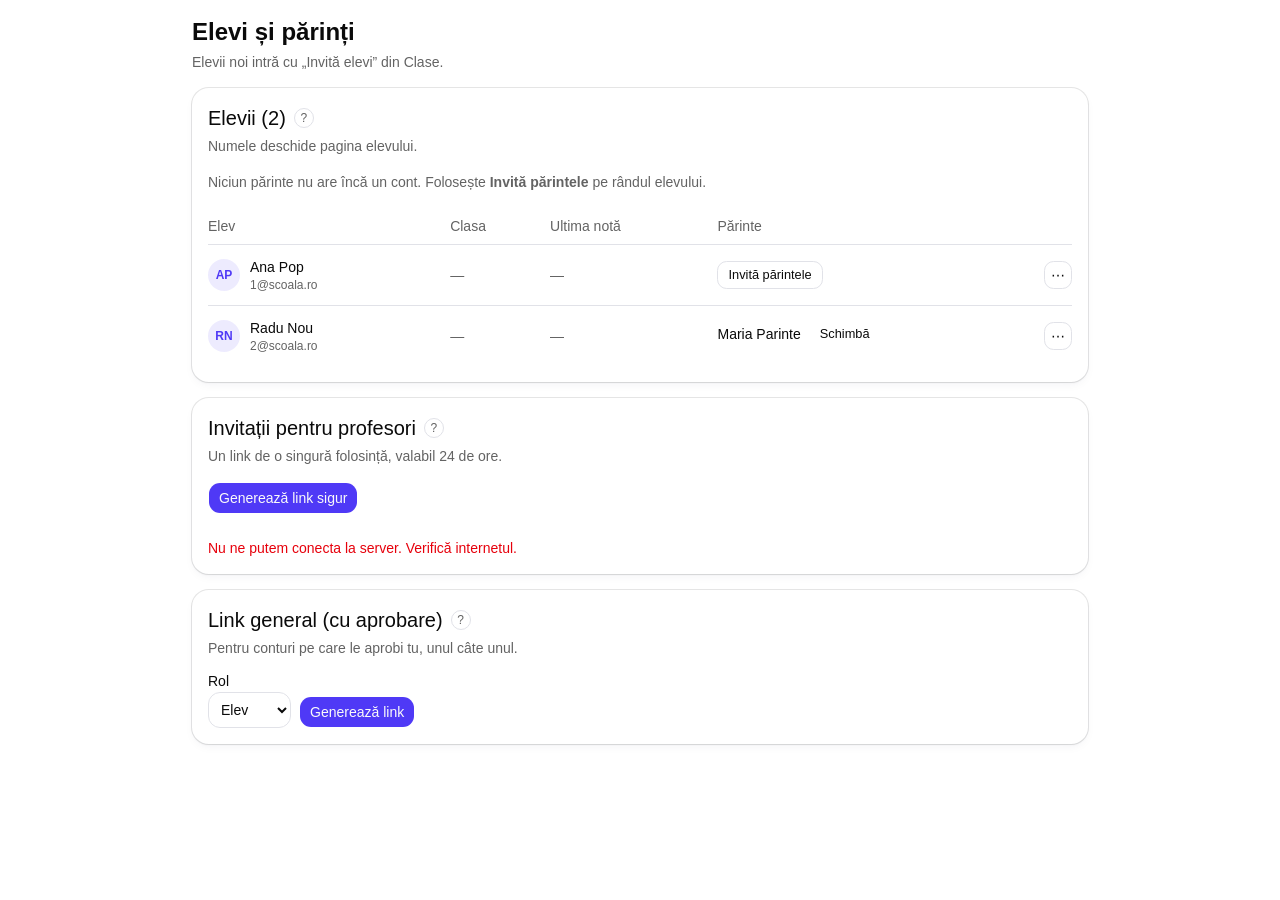
Test: AdminStudentsPage › lets an admin remove a student after a clear yes, and drops the row
Step 1. Click the button named "Mai multe acțiuni pentru Ana Pop" → {"x": 1058, "y": 275}, box [1044,261,1072,289]
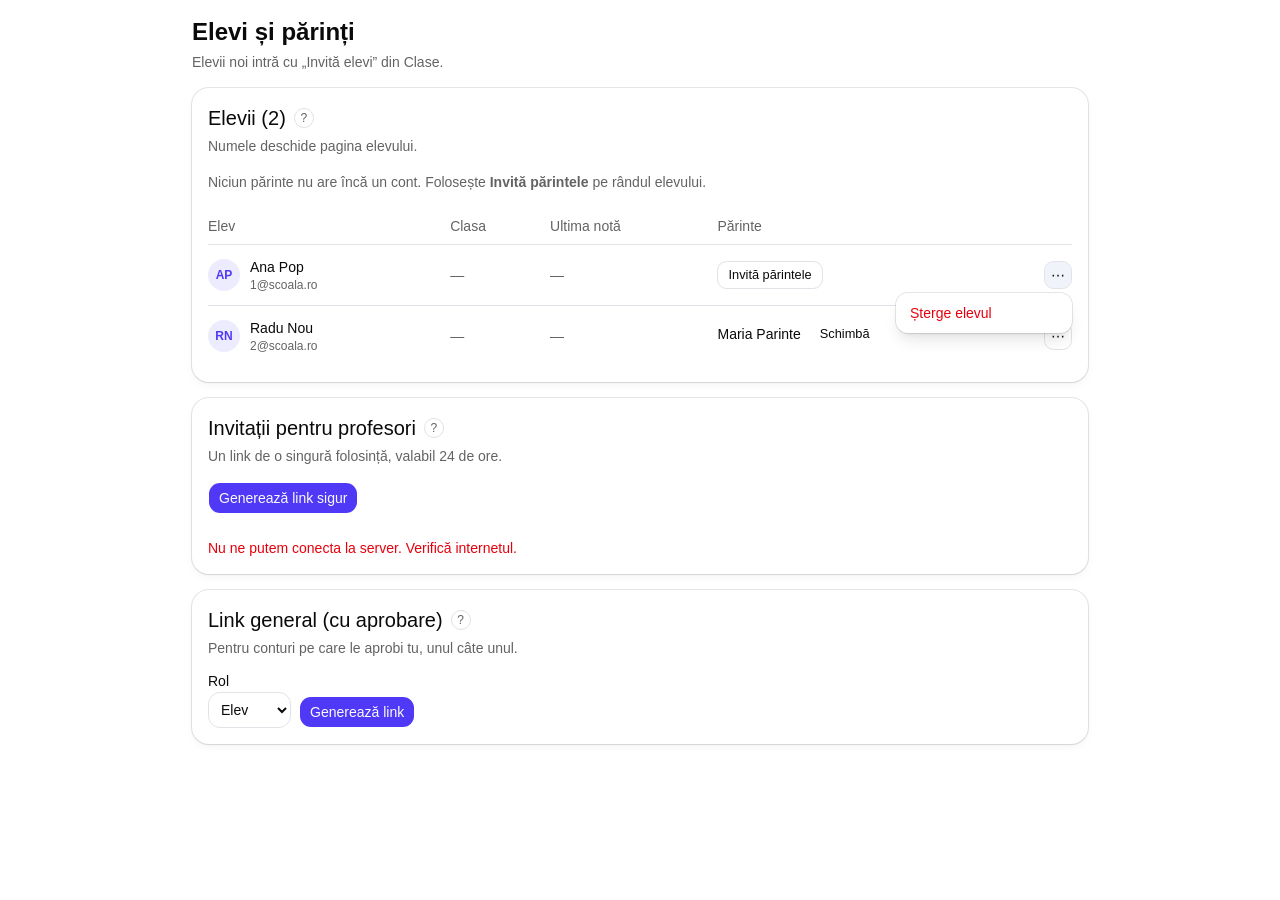
Step 2. Click the menu item "Șterge elevul" → {"x": 951, "y": 313}, box [910,305,992,321]
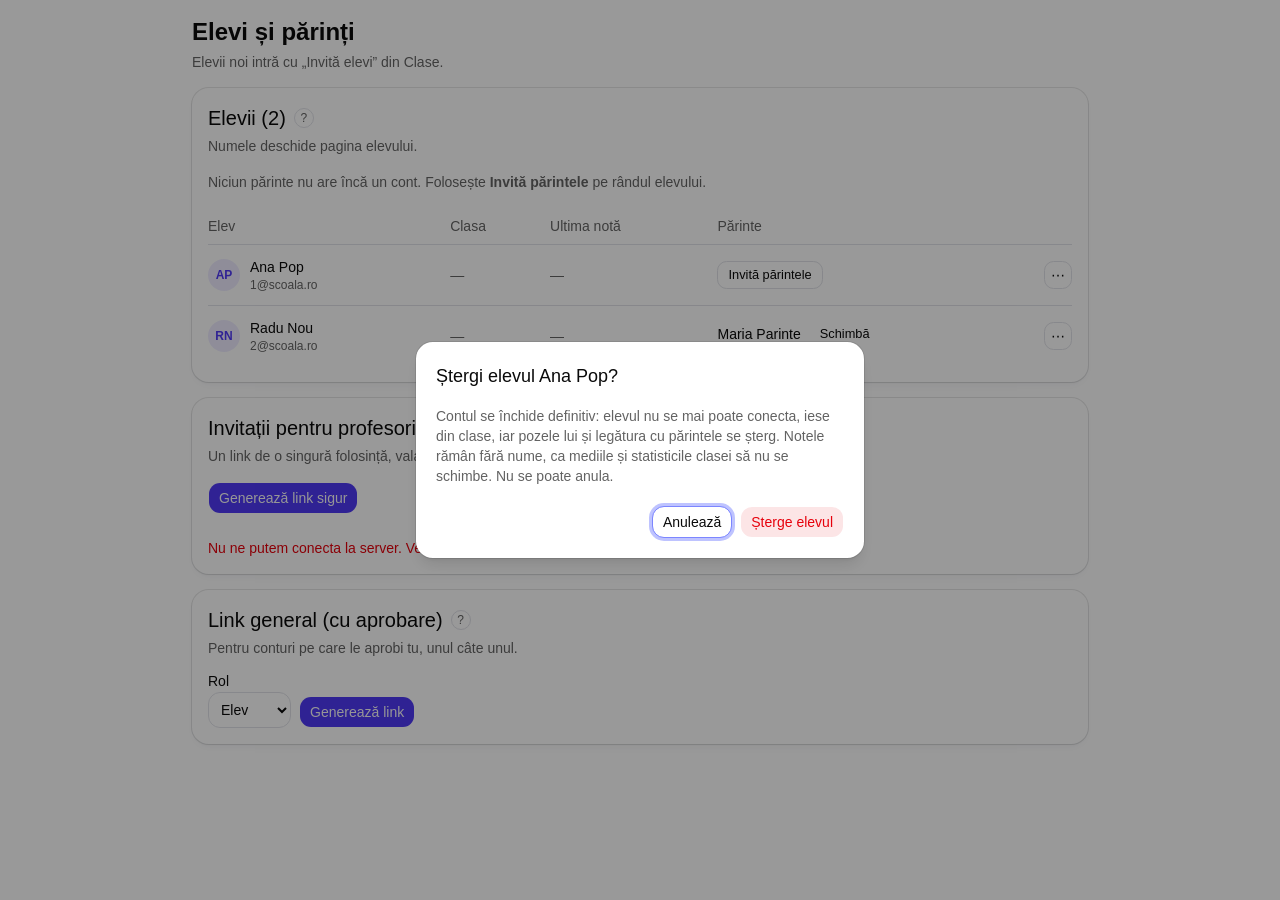
Expected: the dialog shows "Ștergi elevul Ana Pop?", [436,366,618,386]
Expected: the dialog shows "Notele rămân fără nume", [436,408,830,484]
Step 3. Click the button "Șterge elevul" → {"x": 792, "y": 522}, box [740,506,844,538]
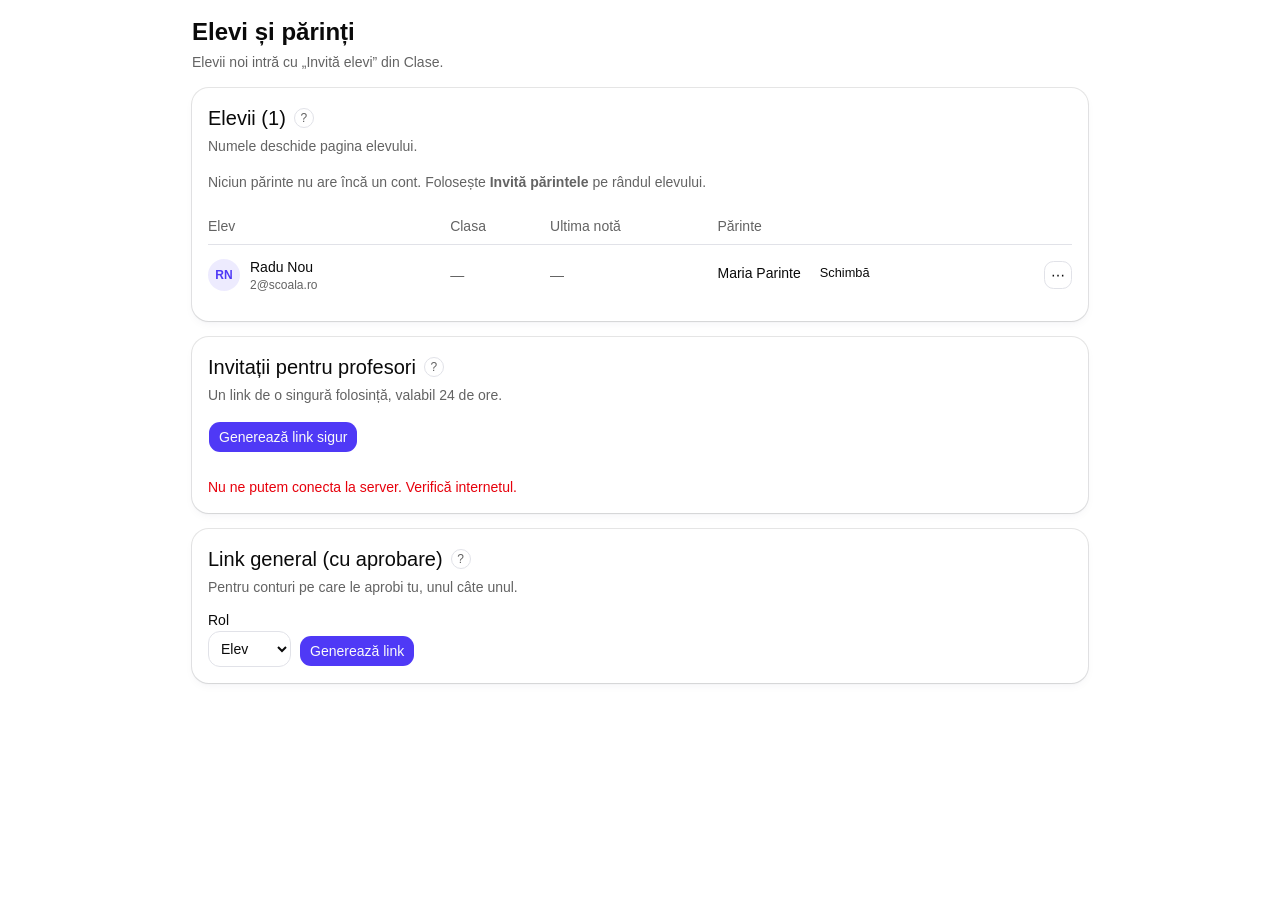
Expected: the link "Radu Nou" is shown, [250,257,318,277]
Expected: the link "Ana Pop" is gone
